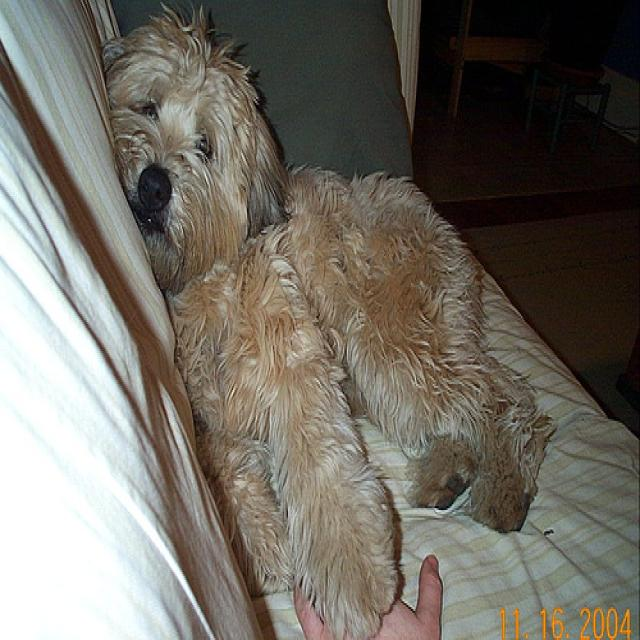dog: (102, 23, 282, 285)
